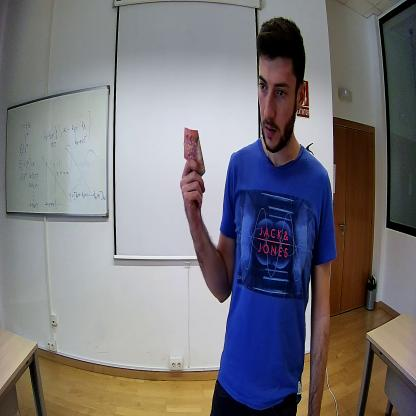billete: (183, 127, 205, 178)
